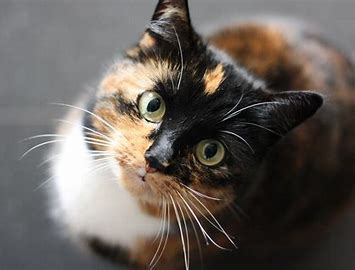cat: (26, 2, 327, 269)
